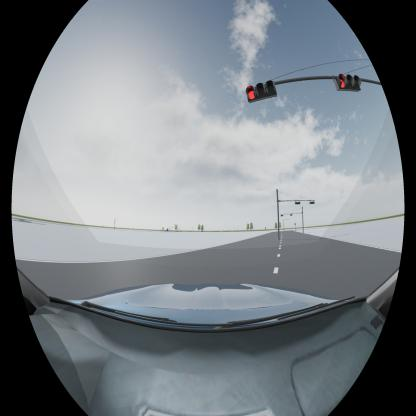Red Light: (245, 79, 278, 102), (332, 73, 363, 92)
